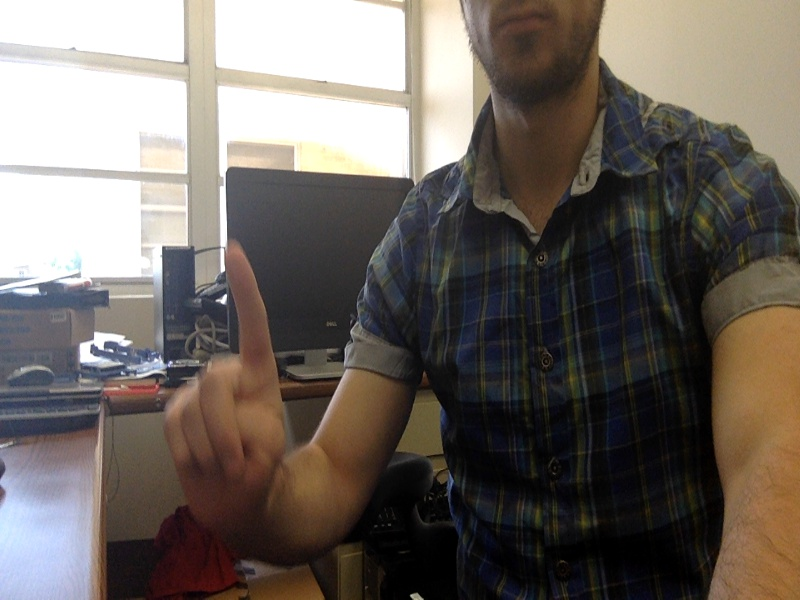1-hand: (159, 245, 285, 528)
